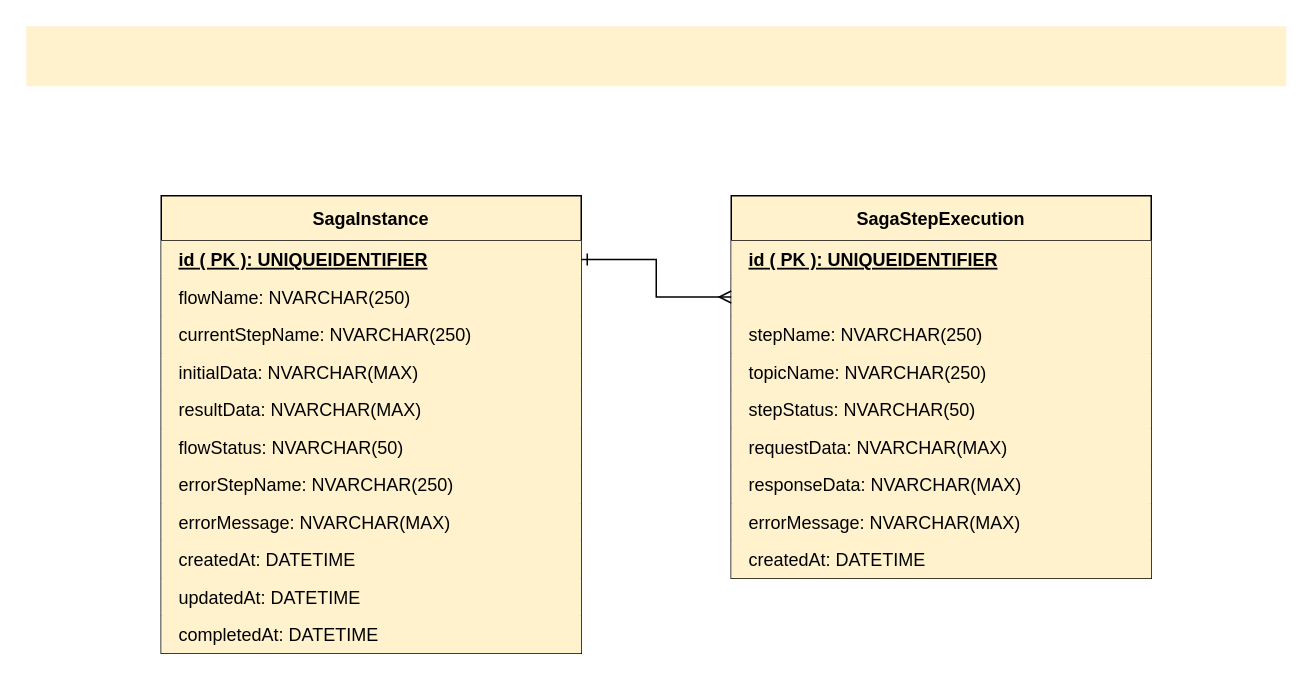
The diagram is 1311 pixels wide and 680 high, and some of its shapes have lost their labels. Here are the shapes that lost their labels. From the top down, the centre of each, then its label:
At [656,56]: "SAGA ORCHESTRATOR SERVICE DATABASE".
At [940,296]: "sagaInstanceId ( FK ): UNIQUEIDENTIFIER".
